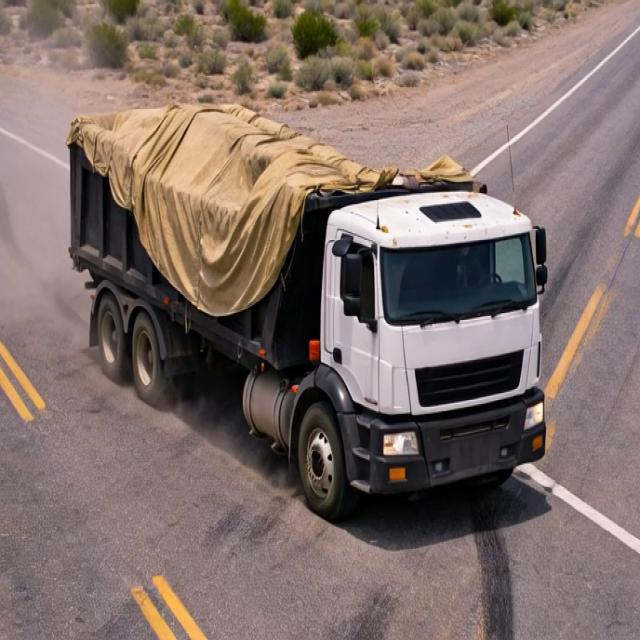Box: (72, 104, 491, 199)
Truck: (59, 77, 554, 502)
